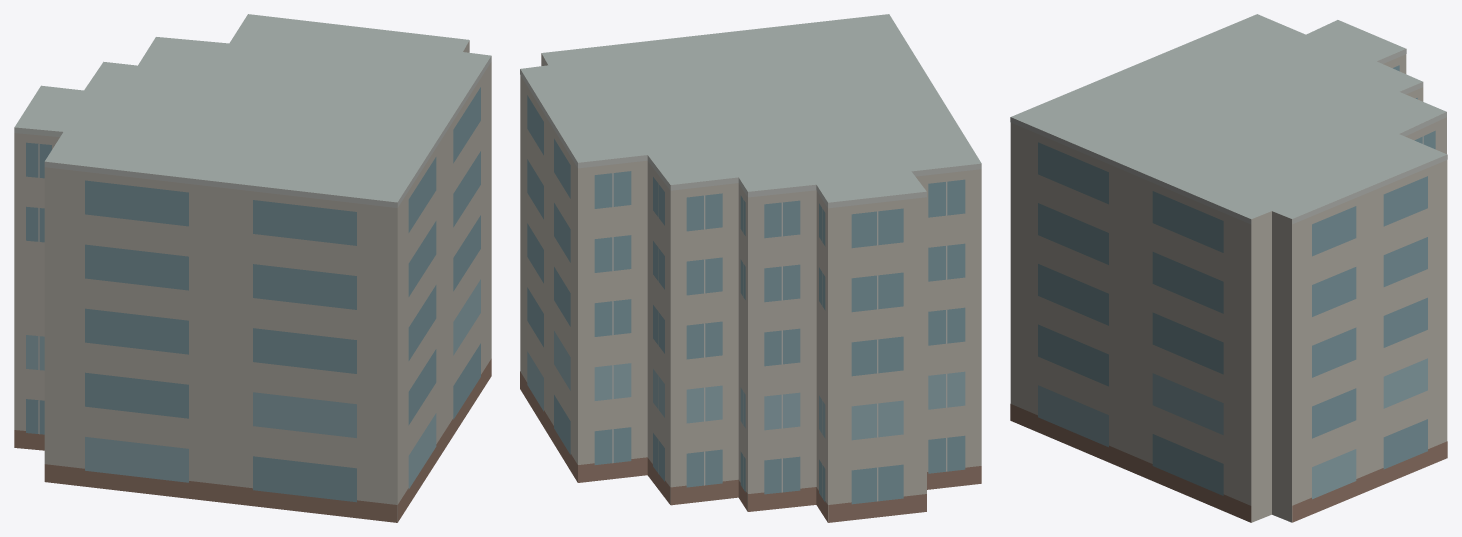
File: survey-upis-32946839.glb
3 views of the same model, side by side, from view 1: azimuth 30°, elevation 25°; view 2: azimuth 150°, elevation 25°; view 3: azimuth 270°, elevation 25° (orthographic). The views are drawn at different scales.
Visible parts, largest first — view 1: survey-upis-32946839.tmp; view 2: survey-upis-32946839.tmp; view 3: survey-upis-32946839.tmp.
Boxes of the visible parts, x1,y1,x2,y2 form: survey-upis-32946839.tmp: (14, 14, 491, 522); survey-upis-32946839.tmp: (520, 14, 981, 522); survey-upis-32946839.tmp: (1010, 14, 1447, 522).
Bounding box in the file's own units: 20.16 × 13.9 × 18.13.
